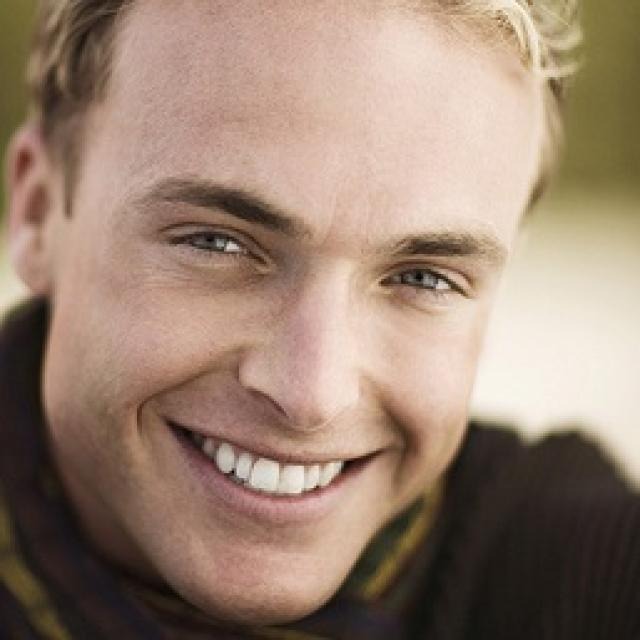Normal: (41, 0, 545, 626)
